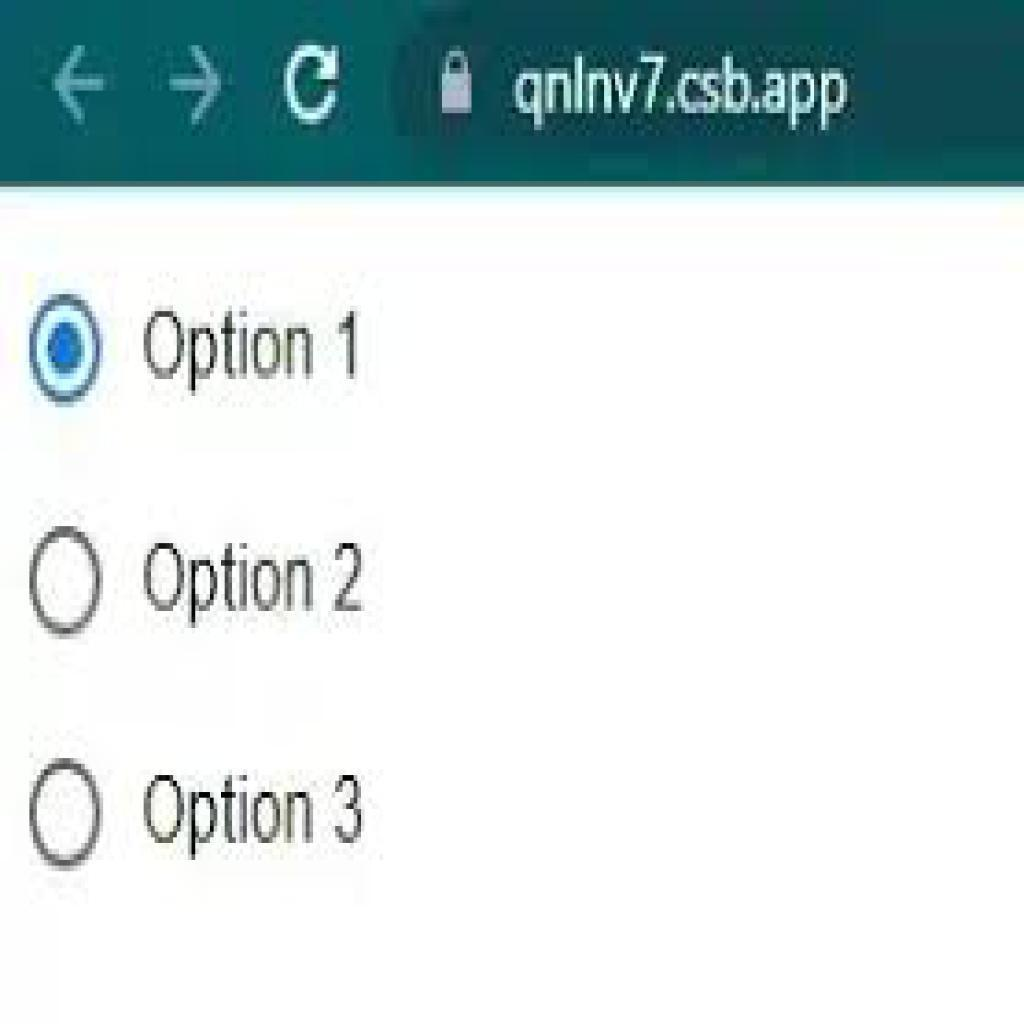icon: (47, 37, 117, 131), (161, 38, 230, 127), (278, 41, 345, 131), (438, 41, 479, 125)
radio: (28, 289, 107, 412), (31, 758, 107, 873), (30, 523, 104, 640)
